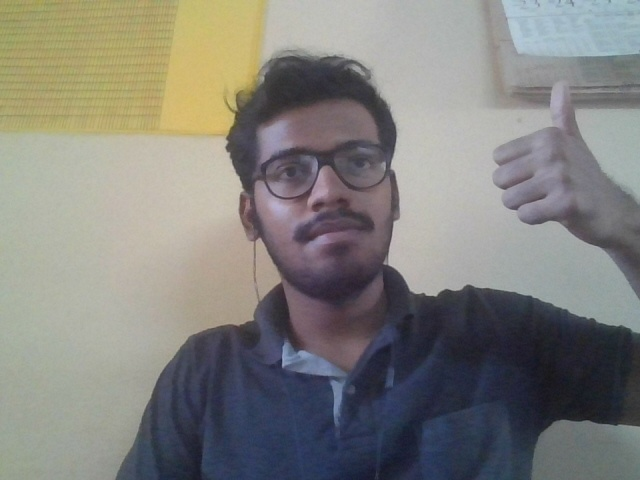ThumbsUp: (491, 79, 614, 249)
